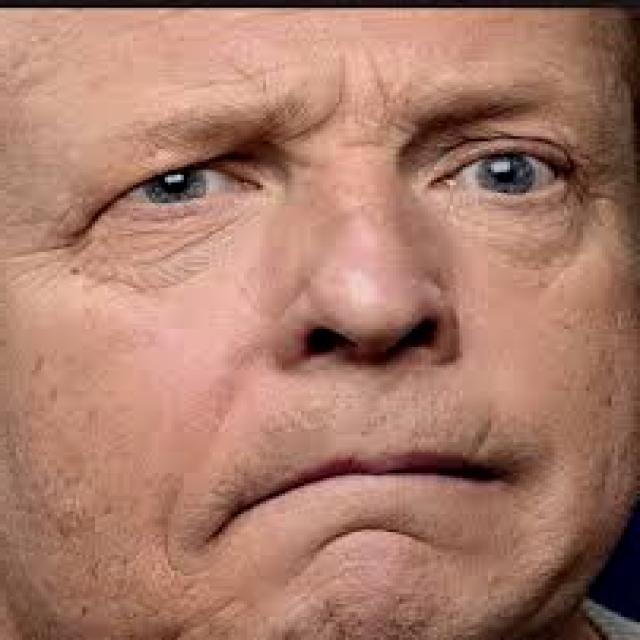stroke_face: (23, 5, 616, 640)
